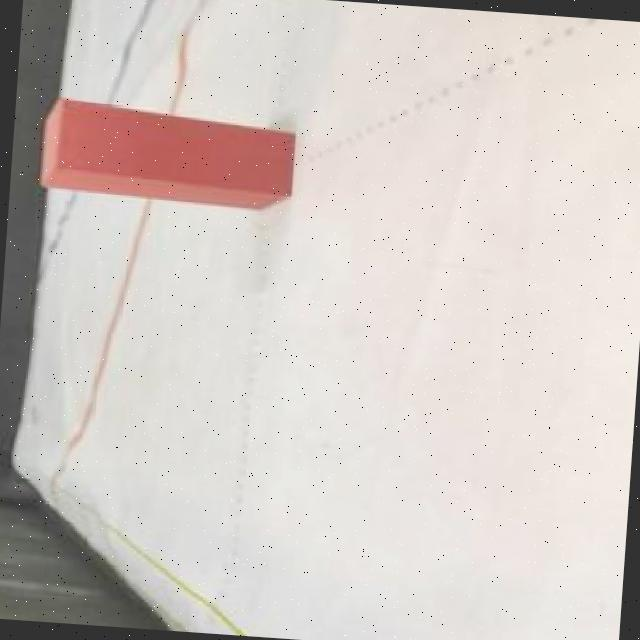redbox: (37, 98, 294, 213)
